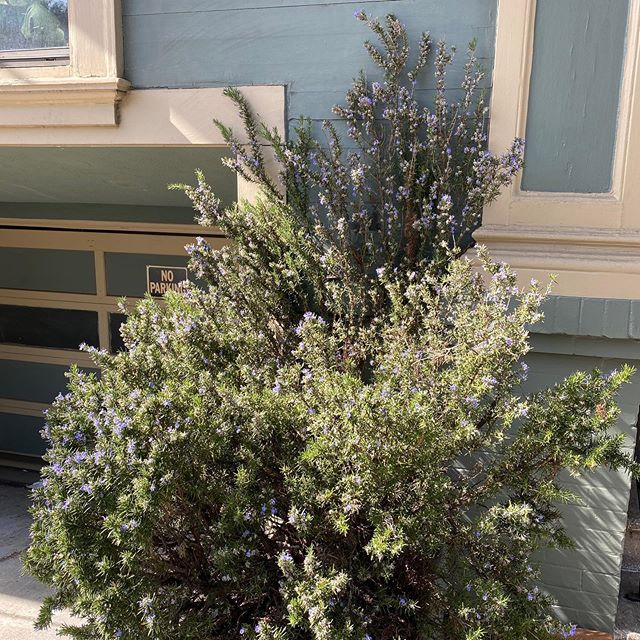building: (1, 1, 640, 459)
vegetation: (38, 114, 552, 640)
